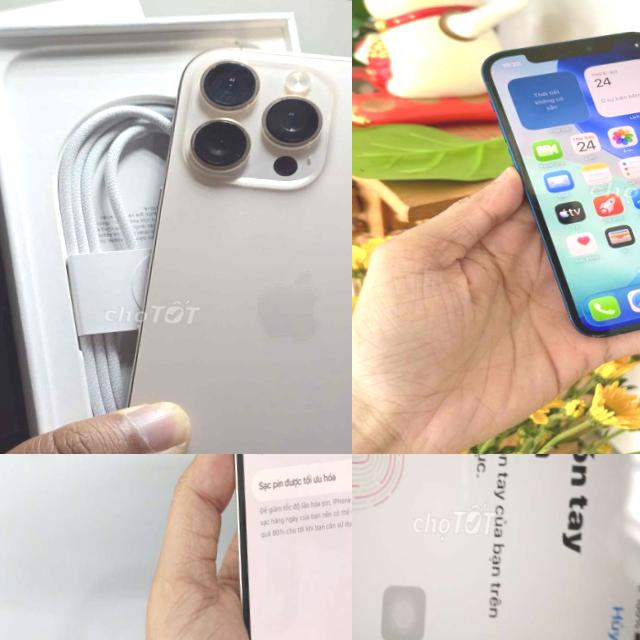gen_12_13: (469, 18, 640, 343), (204, 454, 352, 640)
gen_16: (105, 35, 352, 454)
gen_6: (352, 454, 640, 640)
